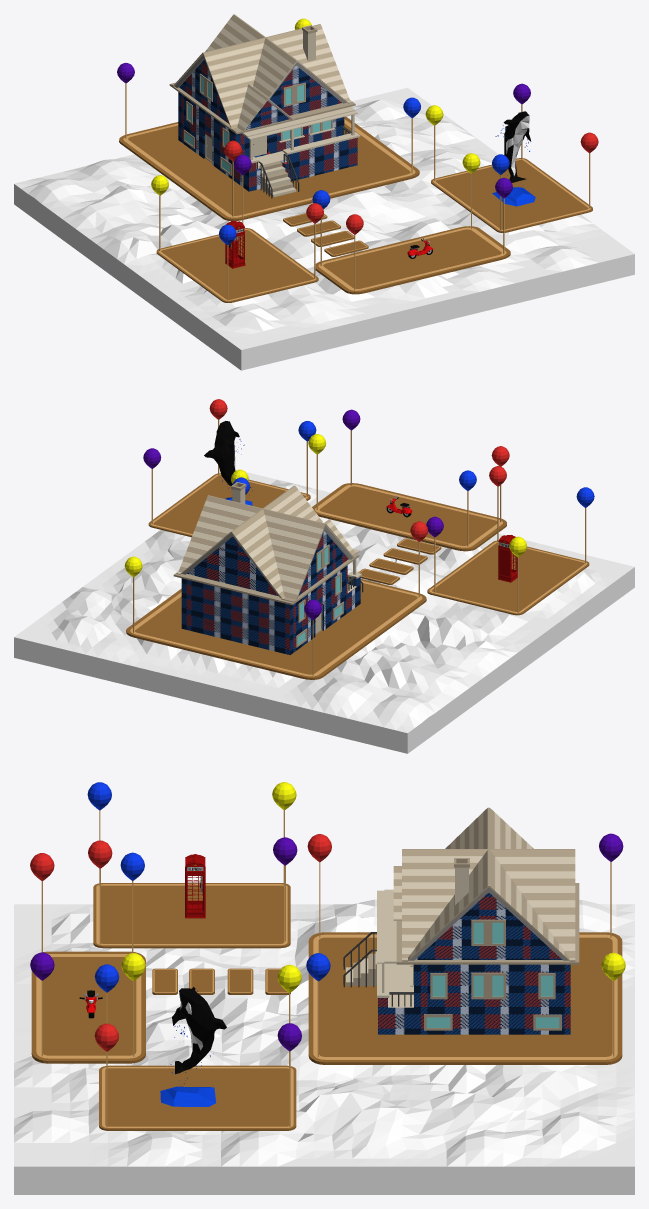
3 views of the same model, one above another, from view 1: azimuth 30°, elevation 25°; view 2: azimuth 150°, elevation 25°; view 3: azimuth 270°, elevation 25° (orthographic). The views are drawn at different scales.
Visible parts, largest first — view 1: Cube.013, Cube.171, ANIMAL_ORCA, OBJRANDOM_PHONEBOOTH; view 2: Cube.013, Cube.171, ANIMAL_ORCA, OBJRANDOM_PHONEBOOTH; view 3: Cube.013, Cube.171, ANIMAL_ORCA, OBJRANDOM_PHONEBOOTH.
Part boxes in pixels (x1,y1,x2,y2): Cube.013: (14,18,634,370); Cube.171: (169,14,360,198); ANIMAL_ORCA: (492,111,535,206); OBJRANDOM_PHONEBOOTH: (225,221,245,268); Cube.013: (14,399,634,753); Cube.171: (173,482,363,654); ANIMAL_ORCA: (204,421,252,505); OBJRANDOM_PHONEBOOTH: (498,535,517,582); Cube.013: (14,782,634,1194); Cube.171: (343,807,579,1034); ANIMAL_ORCA: (160,987,226,1106); OBJRANDOM_PHONEBOOTH: (185,854,205,918).
Bounding box in the file's own units: 4000 × 1696 × 4000.
36 materials, 2 textured.
